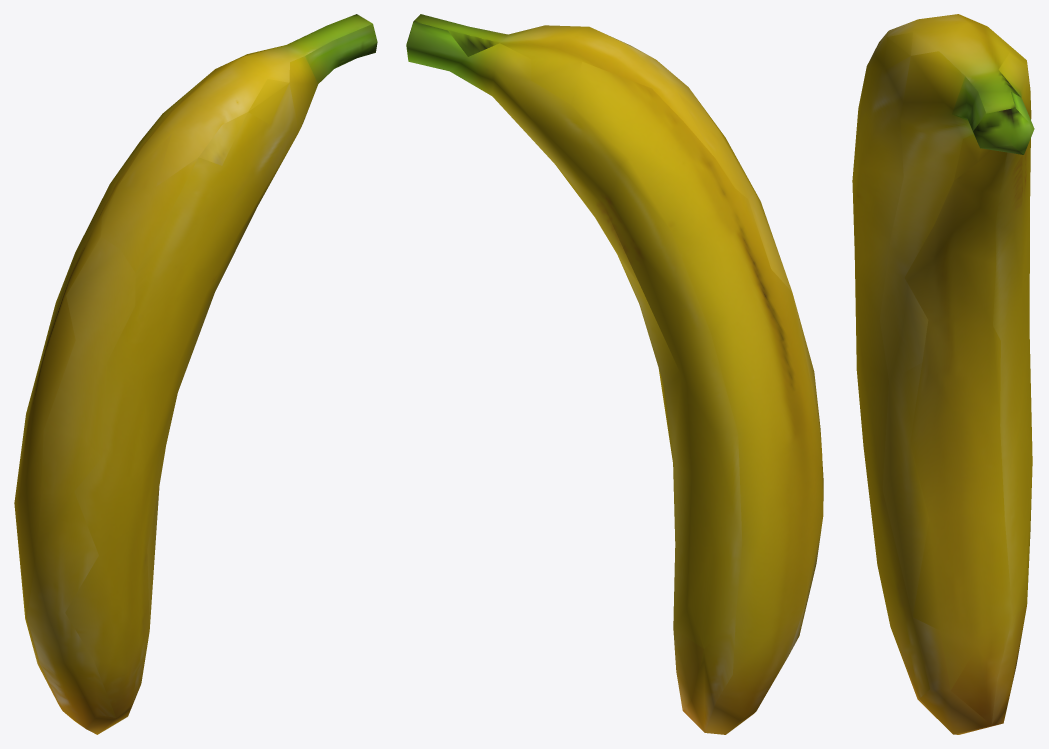
File: 011_banana.obj
The picture shows the model from 3 angles, left to right: view 1: azimuth 30°, elevation 25°; view 2: azimuth 150°, elevation 25°; view 3: azimuth 270°, elevation 25°; orthographic projection. The views are drawn at different scales.
Visible parts, largest first — view 1: textured_simple.015; view 2: textured_simple.015; view 3: textured_simple.015.
Part boxes in pixels (box(x1,y1,x2,y2)): textured_simple.015: box(14, 14, 377, 734); textured_simple.015: box(406, 14, 823, 734); textured_simple.015: box(852, 14, 1034, 734).
Size of the model in its own units: 0.1089 by 0.1787 by 0.0369.
